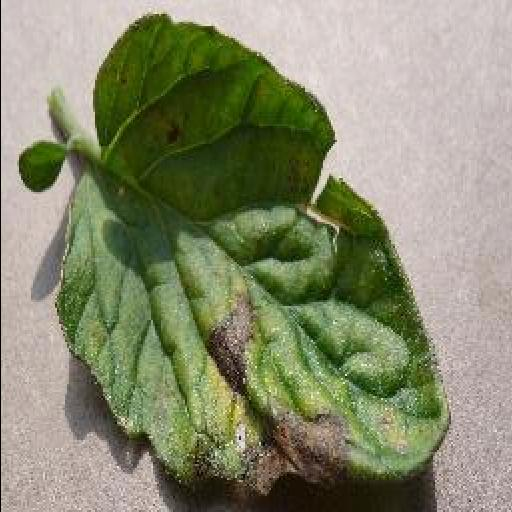disease_tomato: (50, 8, 450, 498)
